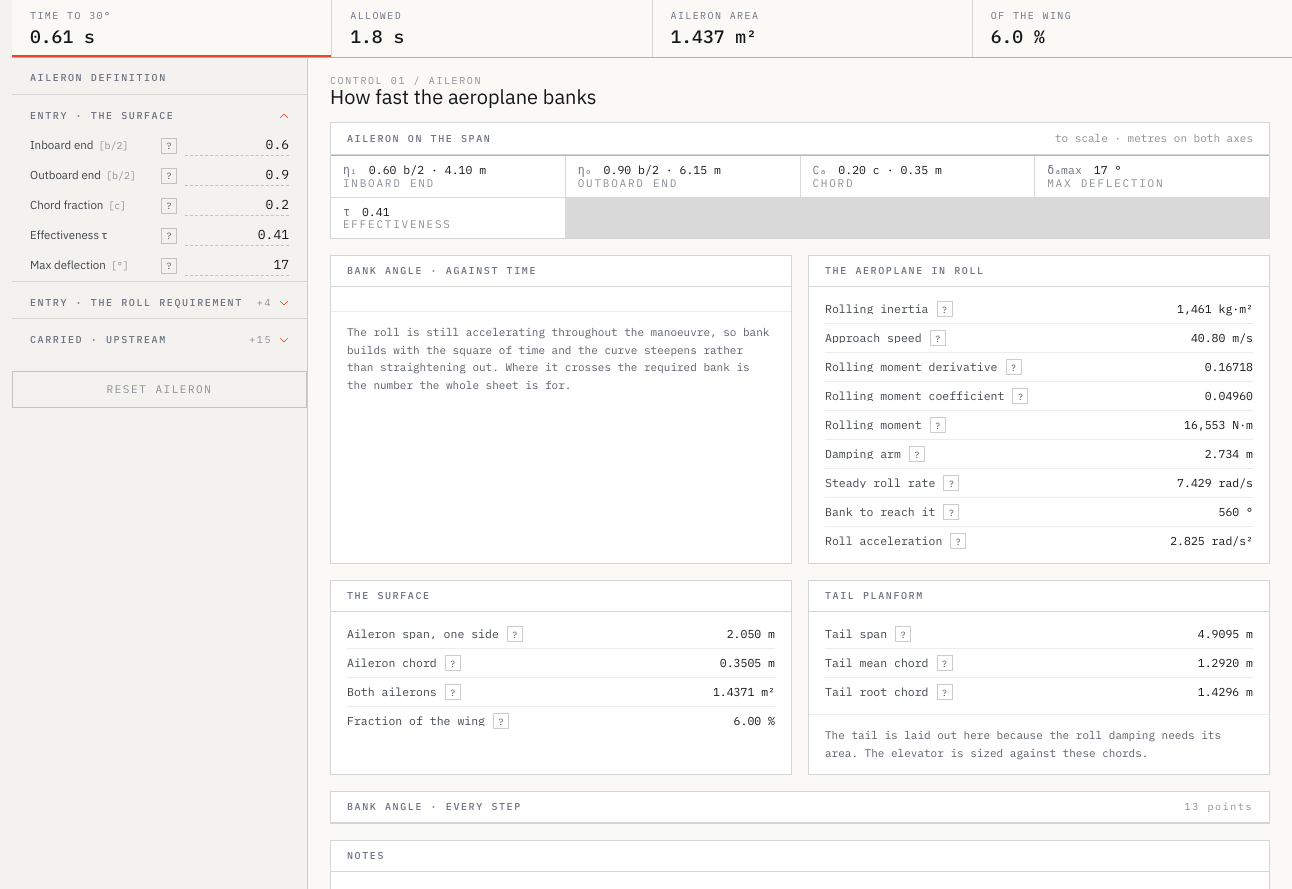
Scenario: Aileron › relabels the requirement when the bank angle changes
Click the text "ENTRY · THE ROLL REQUIREMENT".
click(136, 303)  # box [30,298,243,308]
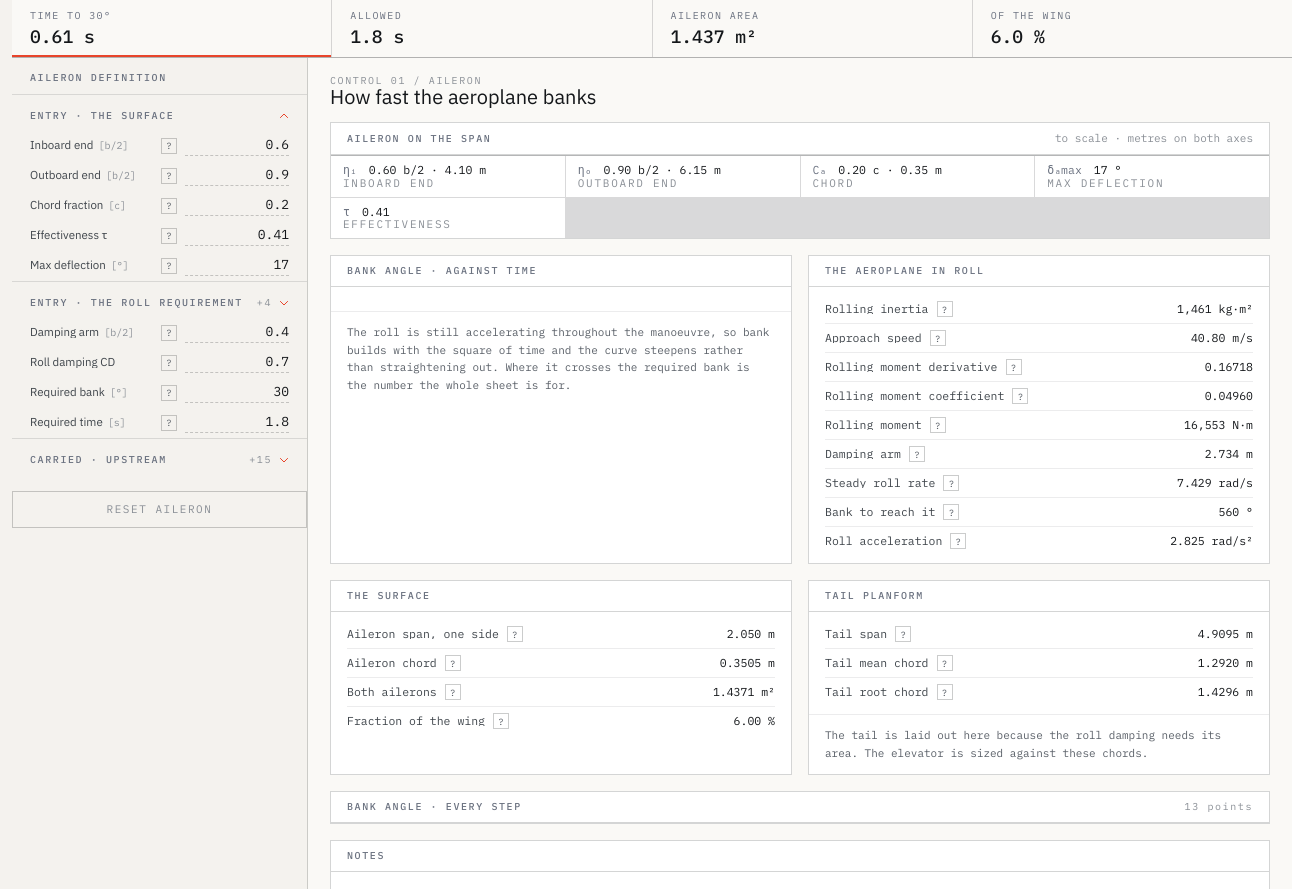
Replace the text in the field with id "al-requiredBankDeg" with "45" at (237, 393), box [185,383,289,403]
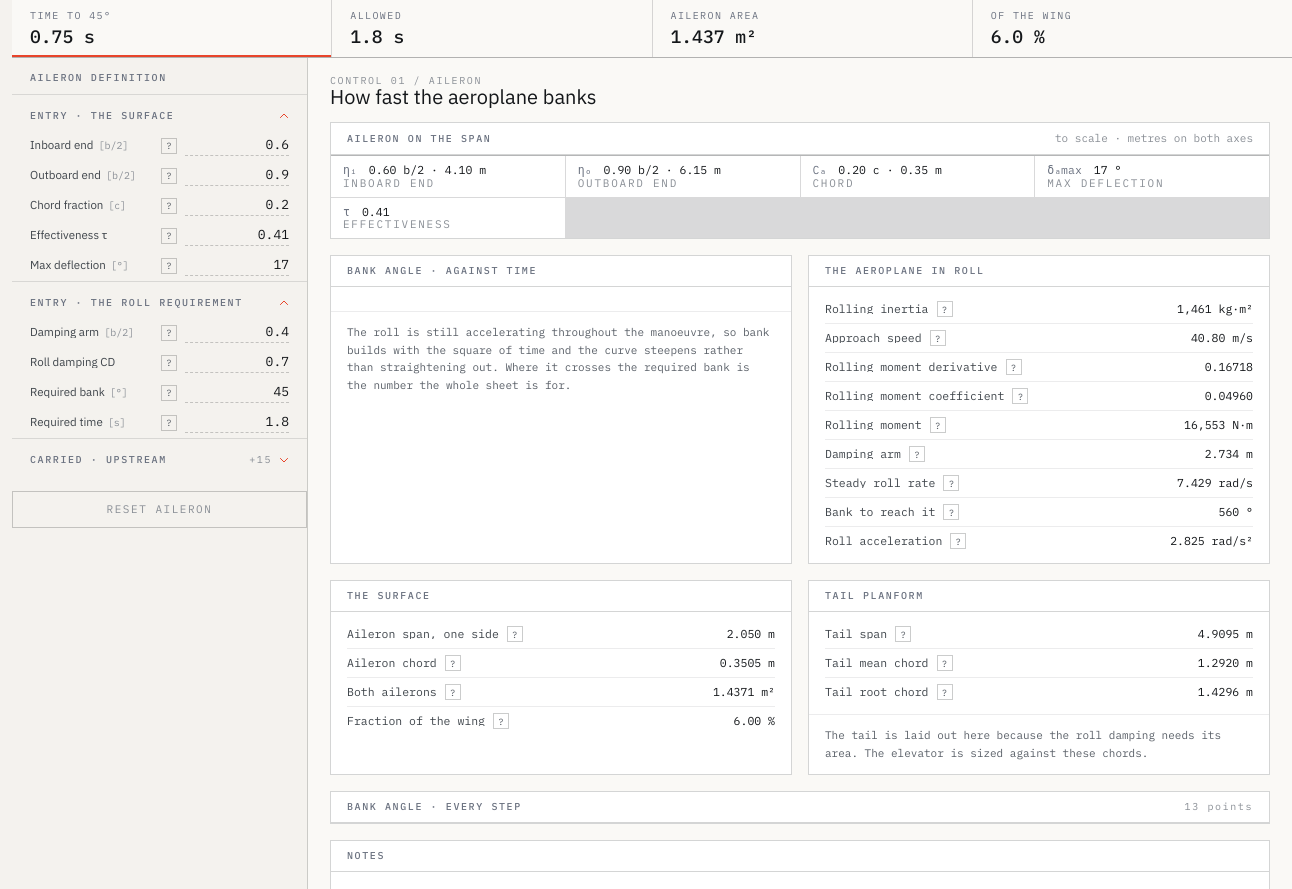
Expected: the text "TIME TO 45°" is shown, [30,9,111,22]
